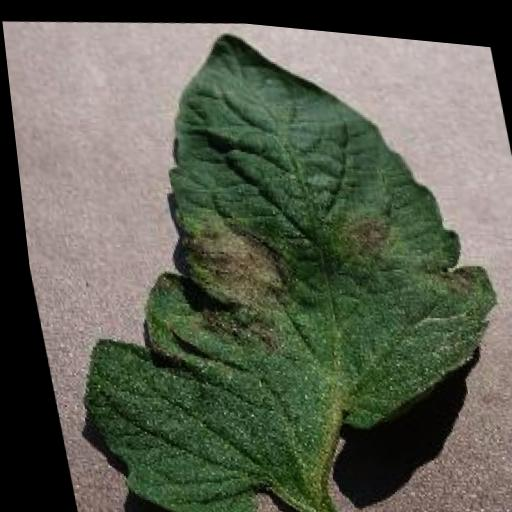Late Blight: (10, 1, 512, 512)
